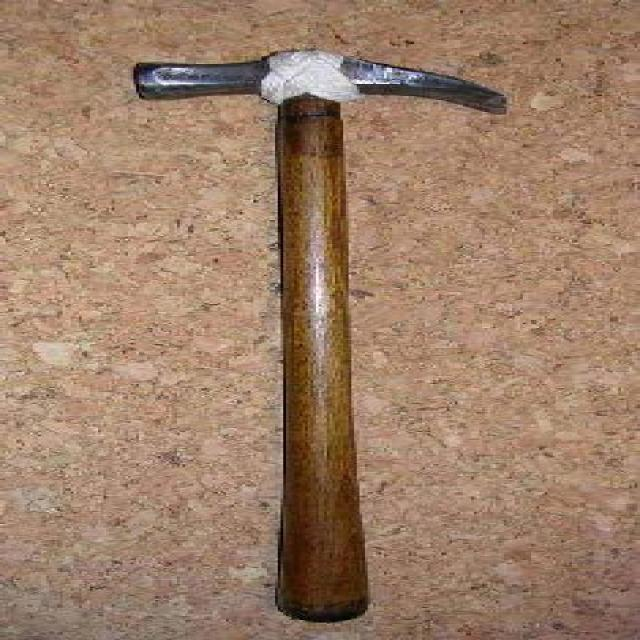hammer: (120, 46, 530, 626)
